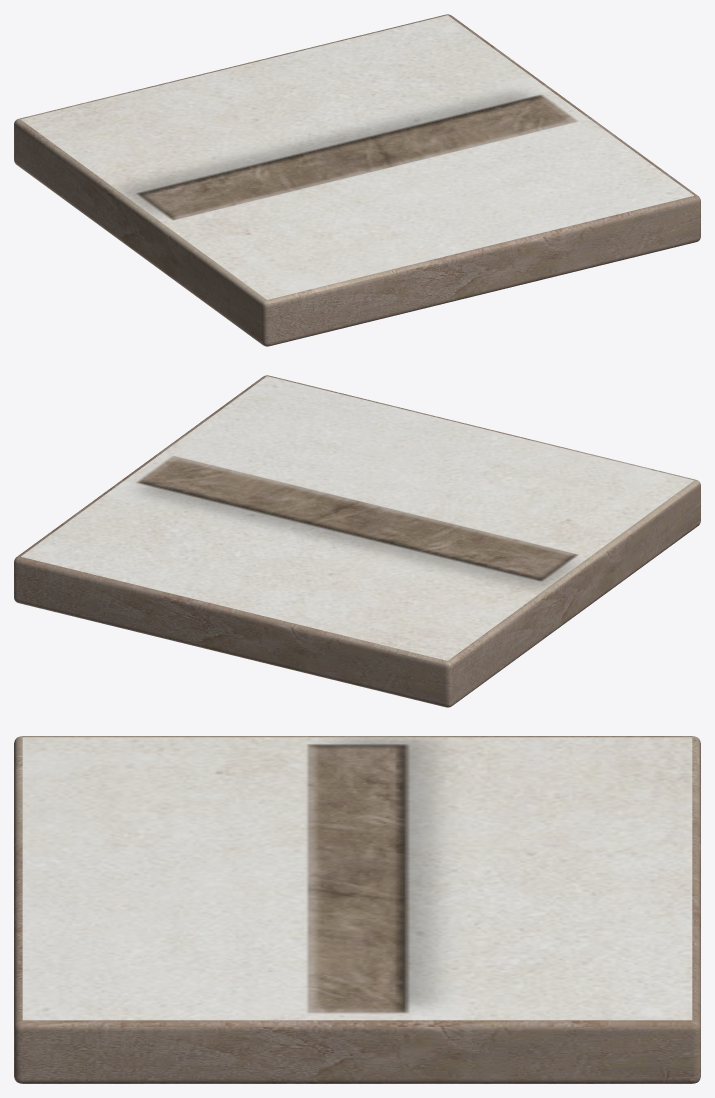
The model's file is tile29.glb.
The picture shows the model from 3 angles, top to bottom: view 1: azimuth 30°, elevation 25°; view 2: azimuth 150°, elevation 25°; view 3: azimuth 270°, elevation 25°; orthographic projection. The views are drawn at different scales.
Parts seen in each view (by area): view 1: Box001; view 2: Box001; view 3: Box001.
Part boxes in pixels (x1,y1,x2,y2): Box001: (14, 14, 700, 346); Box001: (14, 375, 700, 707); Box001: (14, 736, 700, 1083).
Bounding box in the file's own units: 0.254 × 0.0254 × 0.254.
2 materials, 2 textured.
